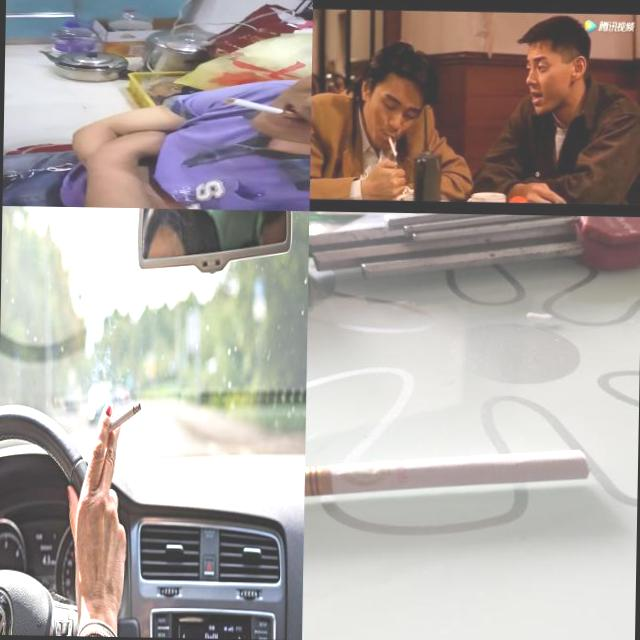cigarette: (304, 444, 591, 511), (99, 400, 142, 438), (225, 98, 298, 119), (384, 133, 398, 156)
